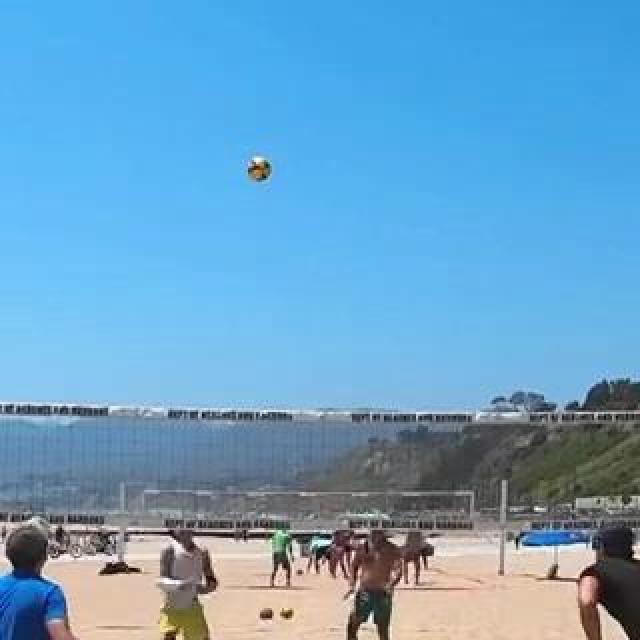volleyball: (246, 157, 272, 181), (280, 606, 294, 620), (260, 606, 274, 620)
